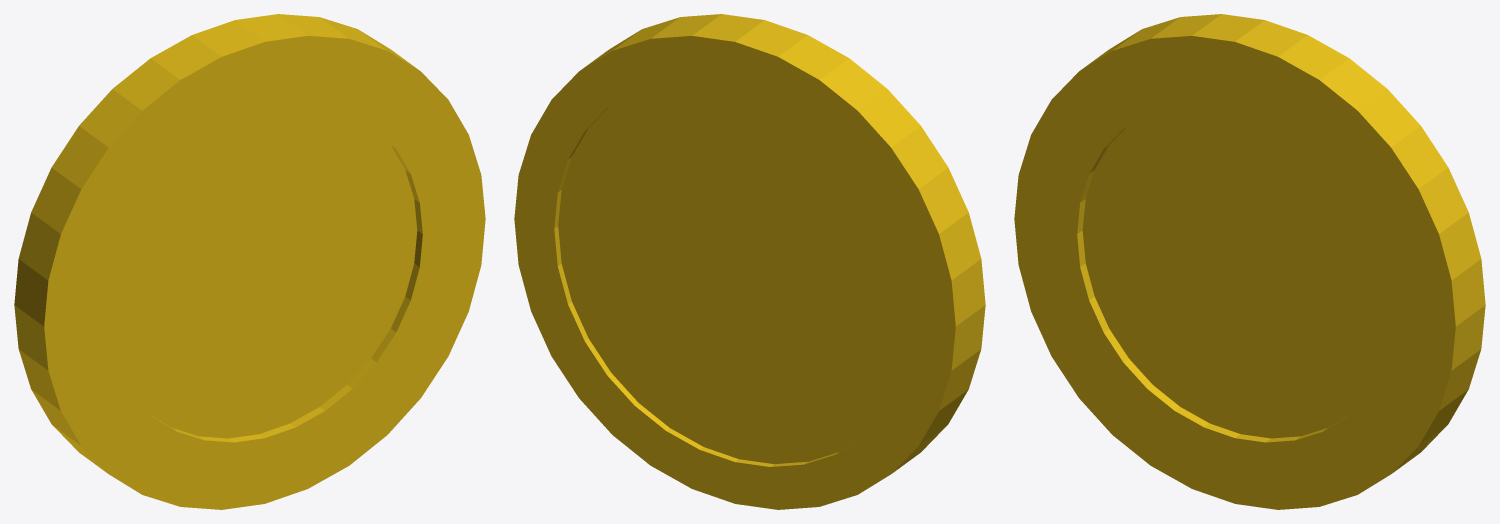
The model's file is coin.gltf.
The picture shows the model from 3 angles, left to right: view 1: azimuth 30°, elevation 25°; view 2: azimuth 150°, elevation 25°; view 3: azimuth 330°, elevation 25°; orthographic projection.
Parts seen in each view (by area): view 1: Cylinder; view 2: Cylinder; view 3: Cylinder.
Boxes of the visible parts, bbox=[...] form: Cylinder: bbox=[14, 14, 485, 509]; Cylinder: bbox=[514, 14, 985, 509]; Cylinder: bbox=[1014, 14, 1485, 509].
Bounding box in the file's own units: 2.11 × 2.11 × 0.2473.
